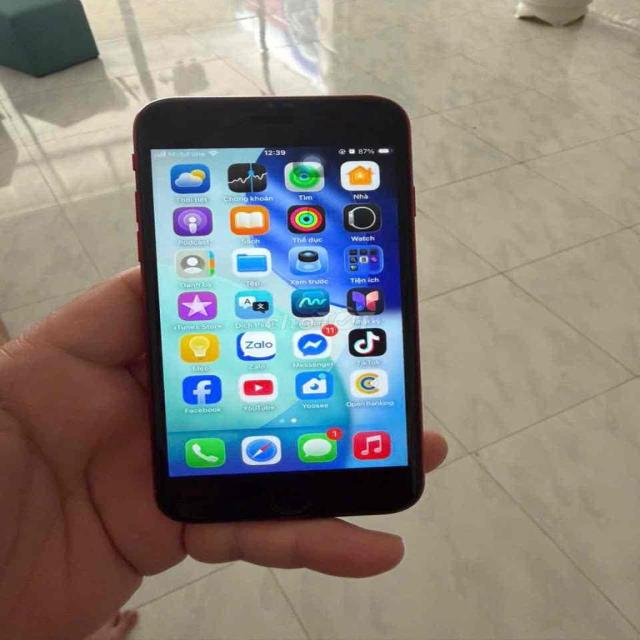gen_7_8: (128, 89, 432, 528)
